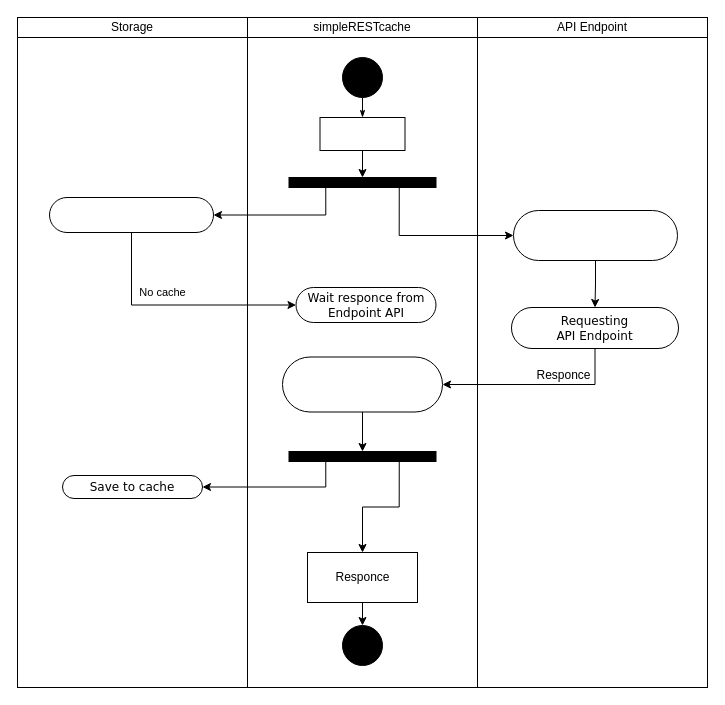
This 725x705 diagram has some shape labels left out. The shapes that lost their labels are listed below. From the top down, each one's centre as x and y in pixels, then its label:
At pixel 362 133: "Request".
At pixel 131 214: "Find cache".
At pixel 595 235: "Wait a little bit Hoping there is cache in storage".
At pixel 362 384: "Parse making a needed responce".
